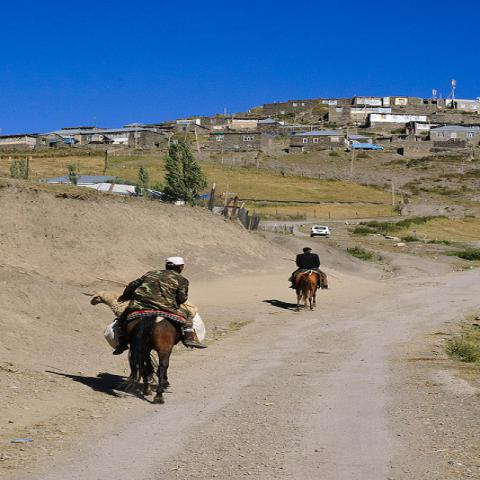car: (310, 225, 334, 238)
